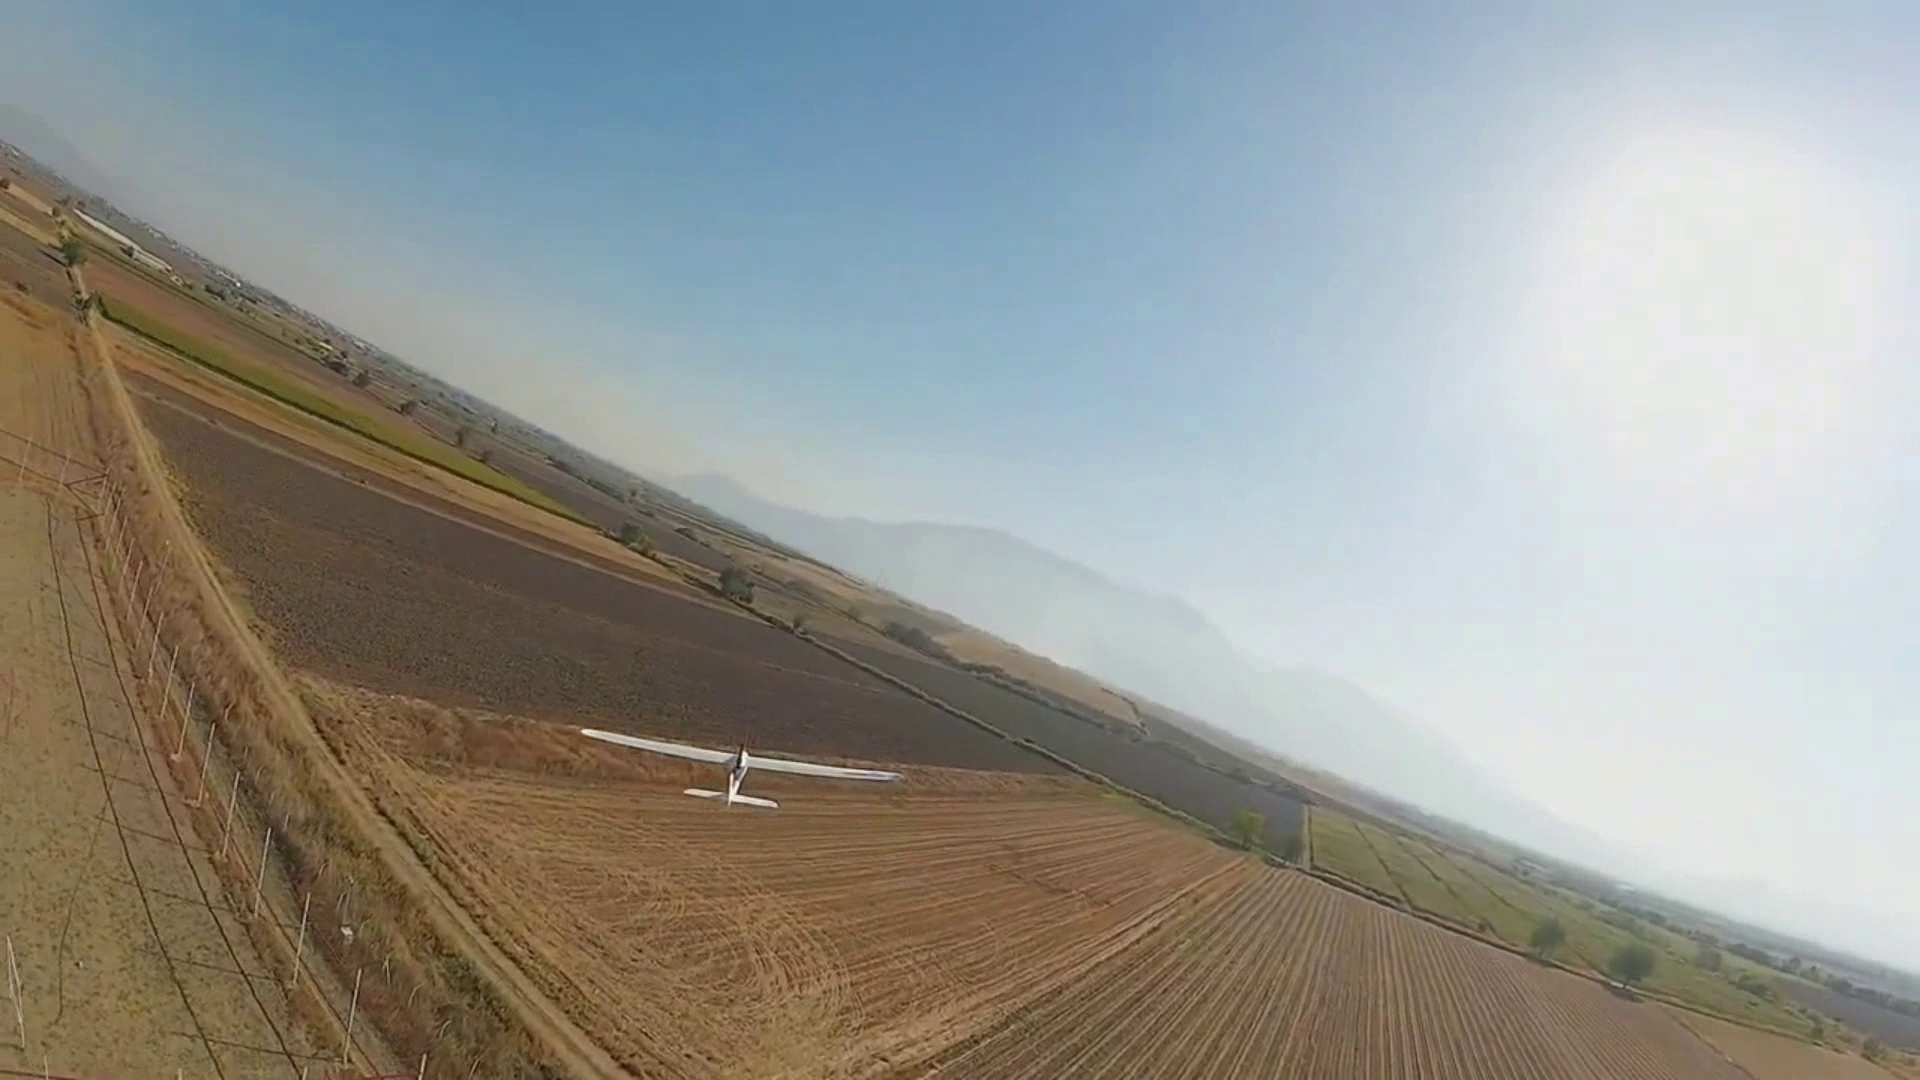airplane: (8, 206, 1919, 1030)
